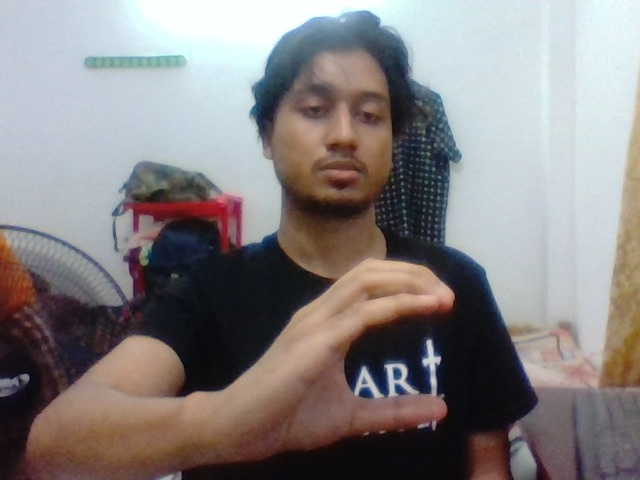C: (256, 251, 483, 435)
